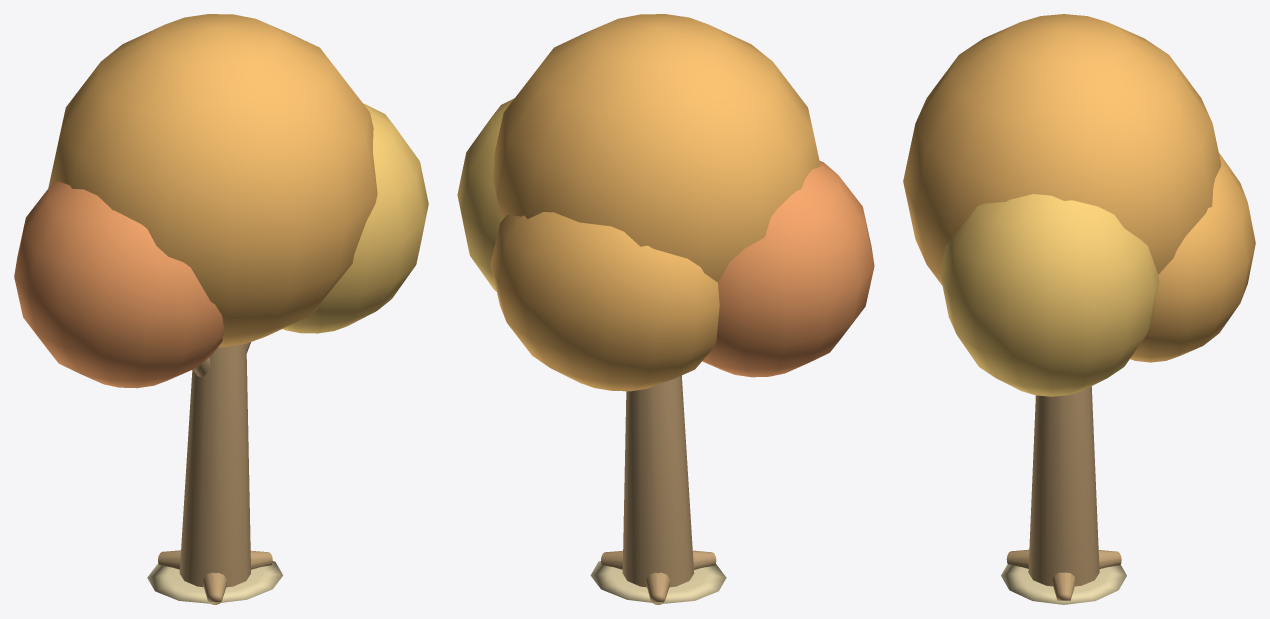
The model's file is tree_v1_autumn.glb.
3 renders of one model, left to right at view 1: azimuth 30°, elevation 25°; view 2: azimuth 150°, elevation 25°; view 3: azimuth 270°, elevation 25°, orthographic.
Parts seen in each view (by area): view 1: Base_Canopy (×3), Base_Trunk, GroundAccent, Base_Root; view 2: Base_Canopy (×4), Base_Trunk, GroundAccent, Base_Root; view 3: Base_Canopy (×3), Base_Trunk, GroundAccent, Base_Root.
Boxes of the visible parts, left/top/right/bottom form: Base_Canopy (×3): left=14, top=14, right=428, bottom=388; Base_Trunk: left=179, top=344, right=250, bottom=587; GroundAccent: left=147, top=561, right=282, bottom=603; Base_Root: left=203, top=572, right=226, bottom=604; Base_Canopy (×4): left=457, top=14, right=874, bottom=391; Base_Trunk: left=622, top=375, right=694, bottom=587; GroundAccent: left=590, top=561, right=726, bottom=603; Base_Root: left=646, top=572, right=669, bottom=604; Base_Canopy (×3): left=903, top=14, right=1255, bottom=396; Base_Trunk: left=1028, top=386, right=1099, bottom=586; GroundAccent: left=1001, top=564, right=1126, bottom=604; Base_Root: left=1052, top=572, right=1075, bottom=600.
Size of the model in its own units: 3.6 by 4.9 by 2.85.
